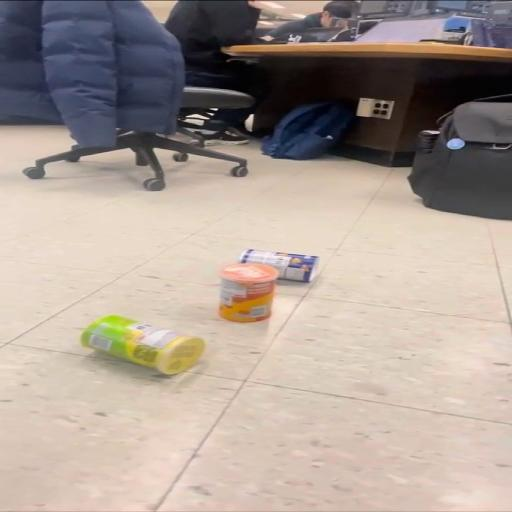pringle can: (82, 316, 204, 374), (220, 264, 278, 322), (239, 249, 318, 282)
